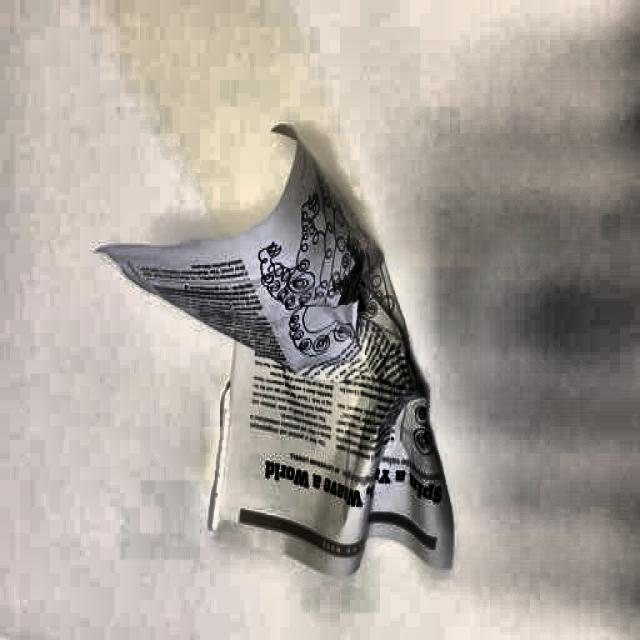paper: (92, 121, 459, 576)
